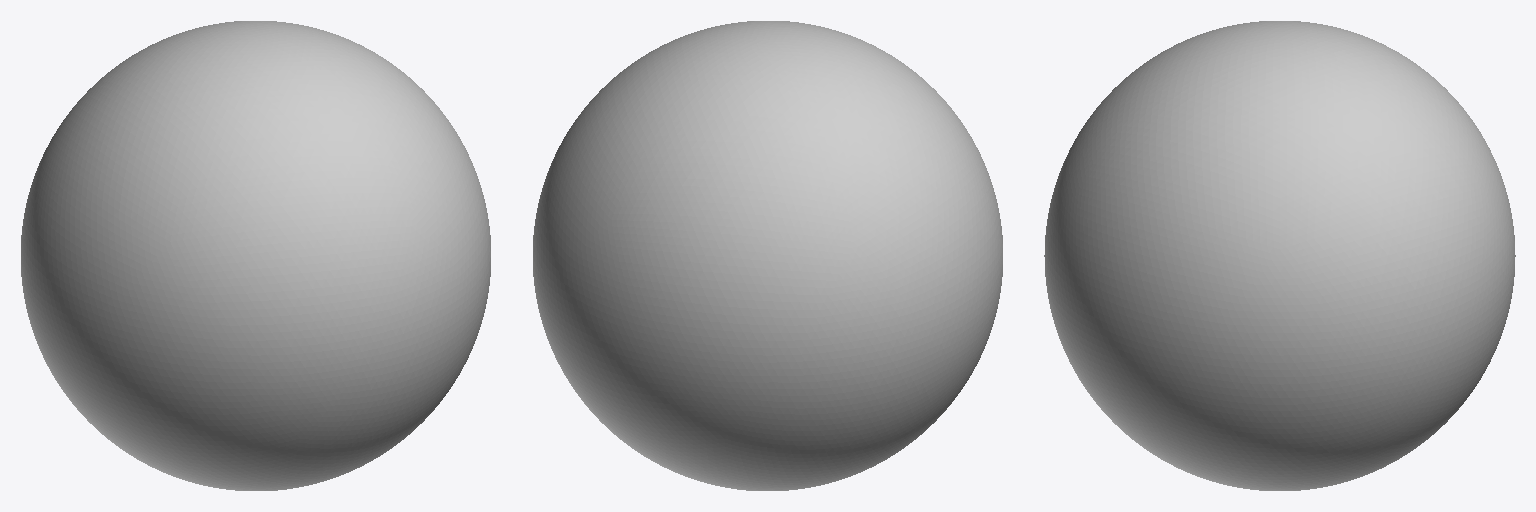
Rendered from boule.obj.
3 views of the same model, side by side, from view 1: azimuth 30°, elevation 25°; view 2: azimuth 150°, elevation 25°; view 3: azimuth 270°, elevation 25° (orthographic).
Visible parts, largest first — view 1: Icosphere; view 2: Icosphere; view 3: Icosphere.
Part boxes in pixels (x1,y1,x2,y2): Icosphere: (21,21,490,490); Icosphere: (533,21,1002,490); Icosphere: (1044,21,1515,490).
Bounding box in the file's own units: 1 × 1 × 1.